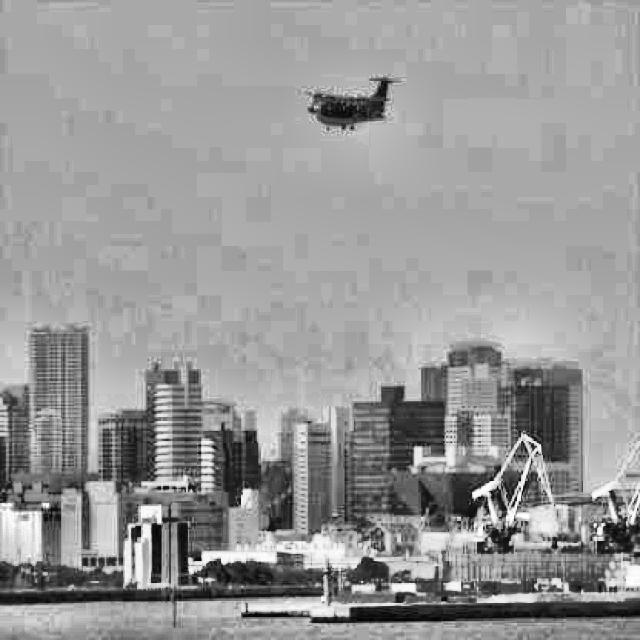US2: (305, 75, 404, 131)
